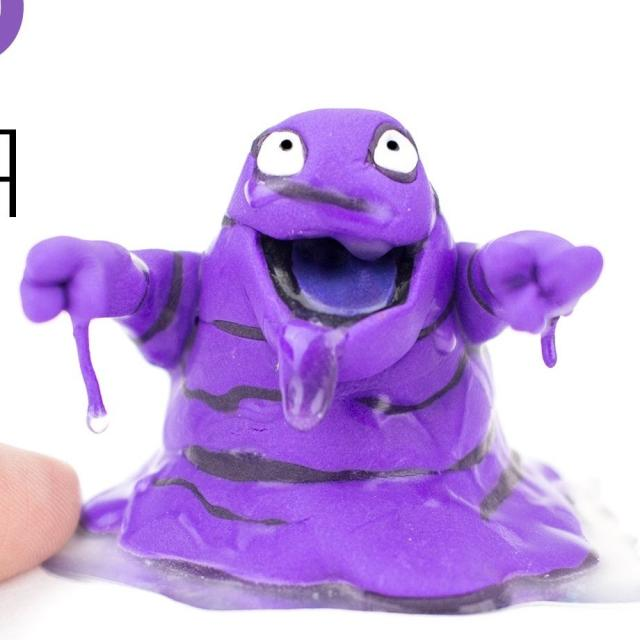Grimer: (113, 106, 544, 559)
